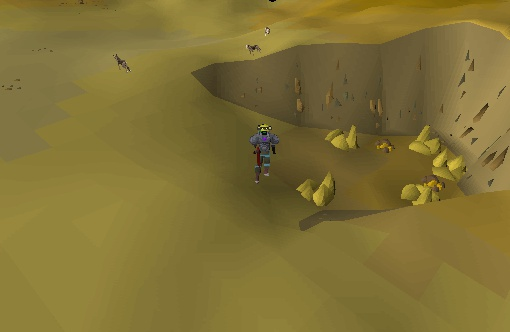gold: (289, 167, 353, 216), (390, 172, 445, 215), (321, 120, 368, 158)
